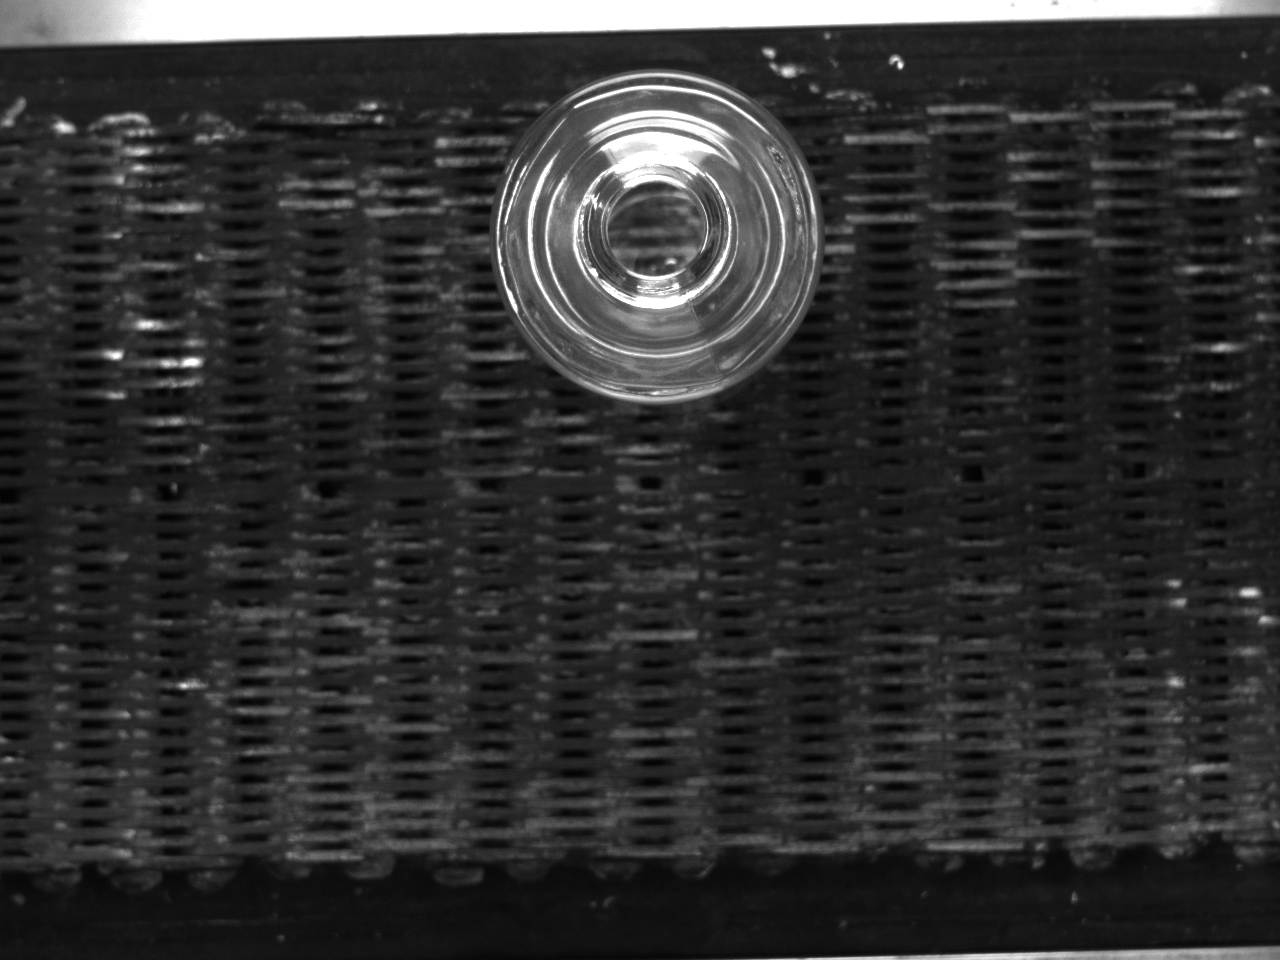bottleneck: (583, 155, 737, 309)
